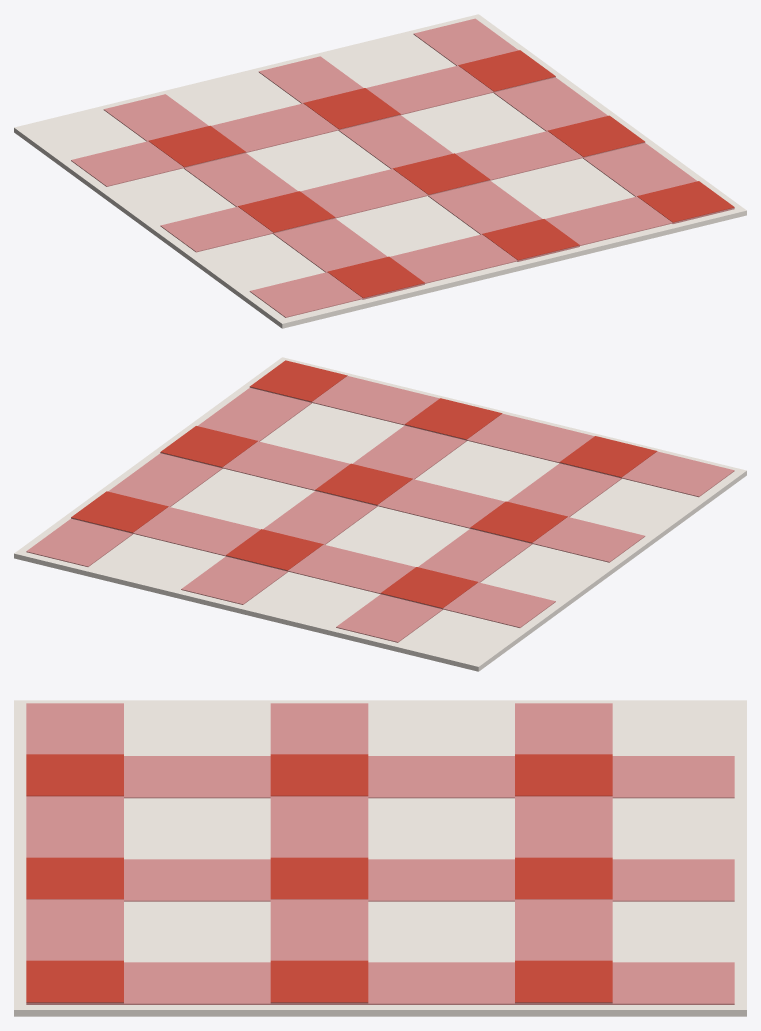
File: CatCafe_Prop_PicnicBlanket.glb
The picture shows the model from 3 angles, top to bottom: view 1: azimuth 30°, elevation 25°; view 2: azimuth 150°, elevation 25°; view 3: azimuth 270°, elevation 25°; orthographic projection. The views are drawn at different scales.
Visible parts, largest first — view 1: CatCafe_Prop_PicnicBlanket; view 2: CatCafe_Prop_PicnicBlanket; view 3: CatCafe_Prop_PicnicBlanket.
Part boxes in pixels (x1=…): CatCafe_Prop_PicnicBlanket: x1=14, y1=14, x2=746, y2=328; CatCafe_Prop_PicnicBlanket: x1=14, y1=357, x2=746, y2=671; CatCafe_Prop_PicnicBlanket: x1=14, y1=700, x2=746, y2=1016.
Bounding box in the file's own units: 6 × 0.085 × 6.
Materials: 1 (1 with a texture image).
